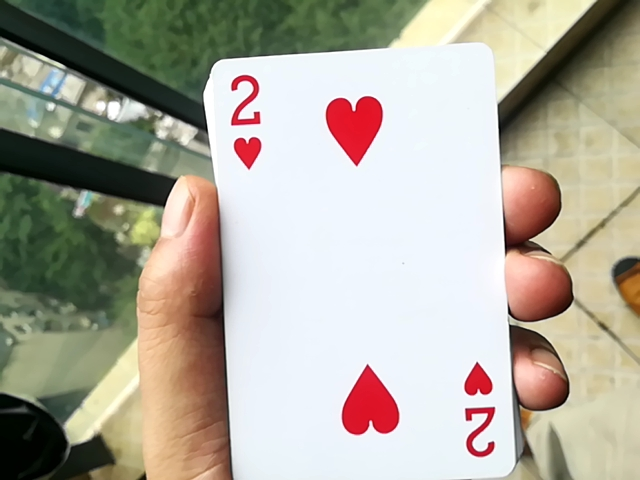hx 2: (189, 42, 521, 479)
